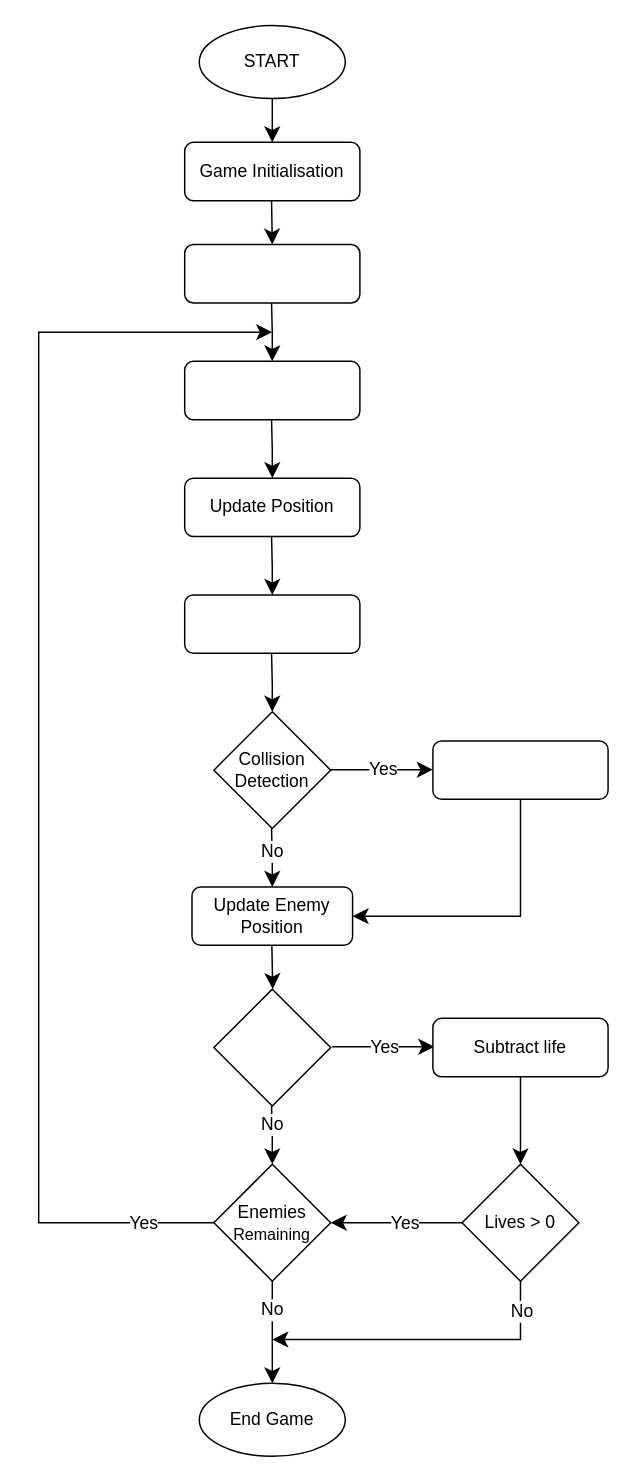
Some shapes in this 634 by 1482 pixel diagram are drawn without their labels. The shapes that lost their labels are listed below. From the top down, each one's centre as x and y in pixels, then its label:
At (271,273): "Generate Enemies".
At (271,390): "Process Input".
At (271,623): "Update Bullet".
At (519,769): "Update Score".
At (271,1047): "Character Hit".
